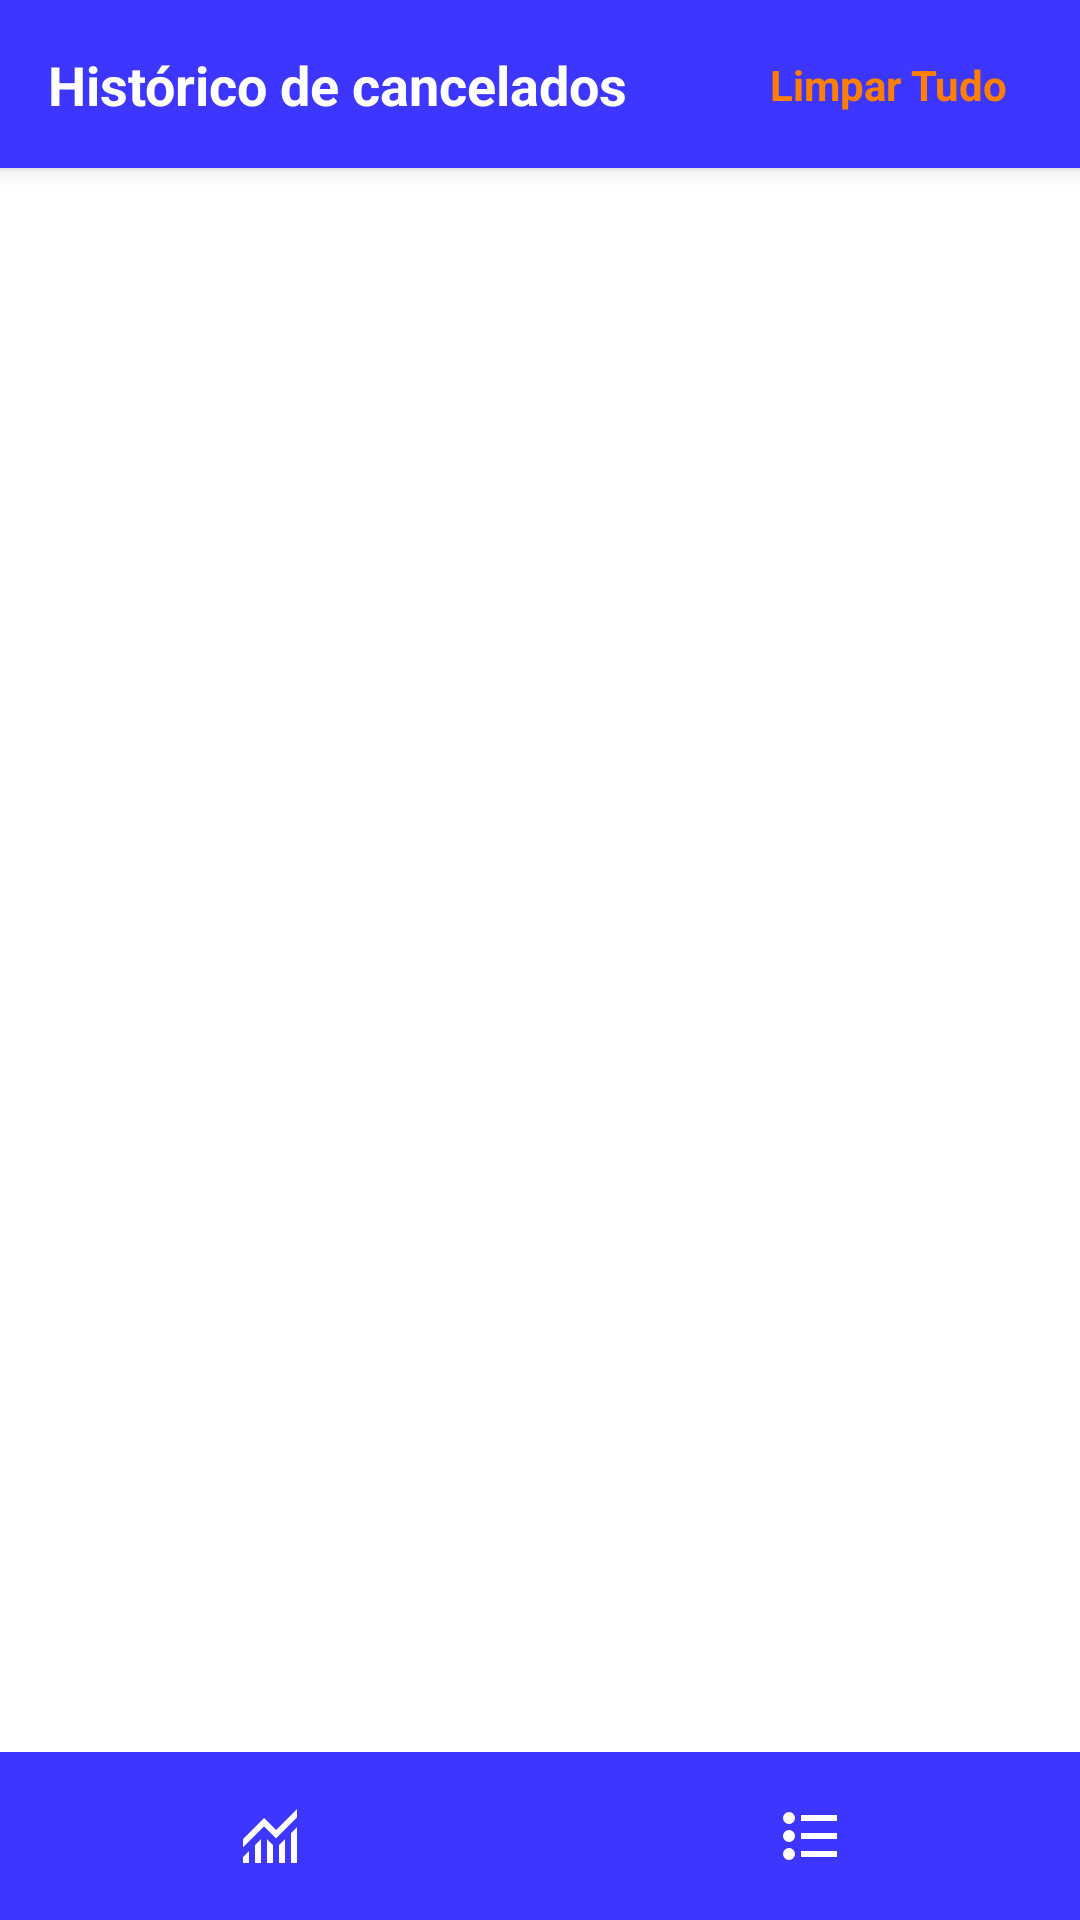

Locate icon controls on the screen. Image size 1080×1920, boxes as (x1, y1, x2, y2).
list: (783, 1812, 837, 1860)
statistics: (243, 1809, 297, 1863)
